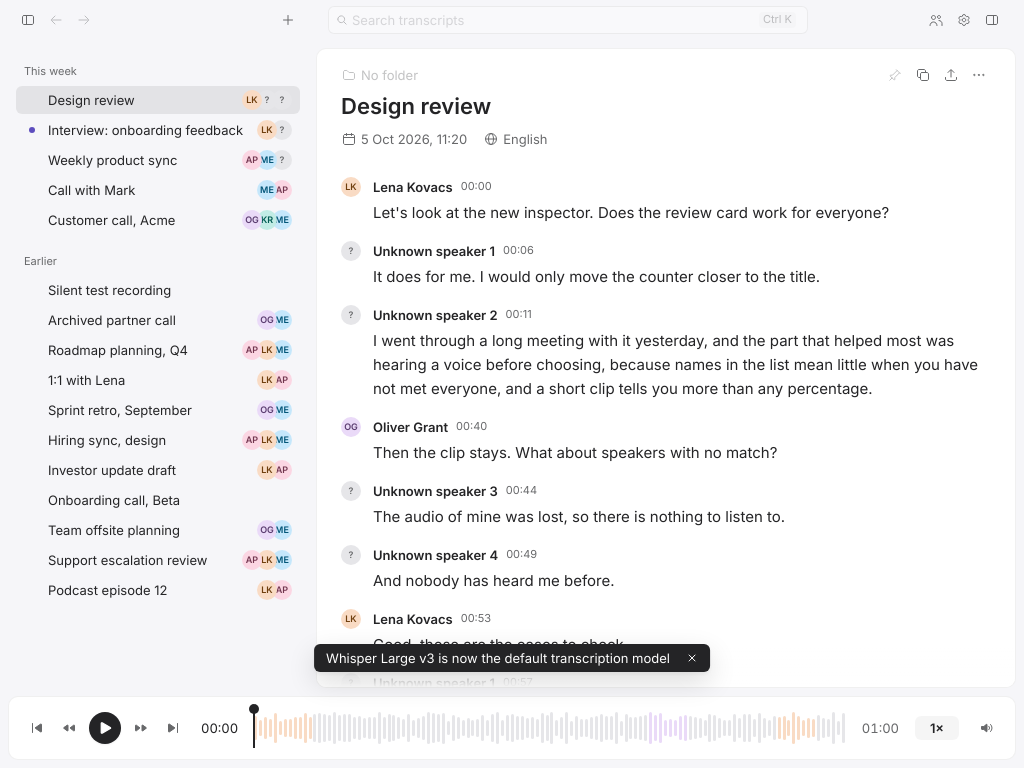
Test: a language without its alignment model says so; Download starts it, with the progress and Cancel
The width and height of the screenshot is (1024, 768).
Click the button named "Settings" at (964, 20), box [952,8,976,32]
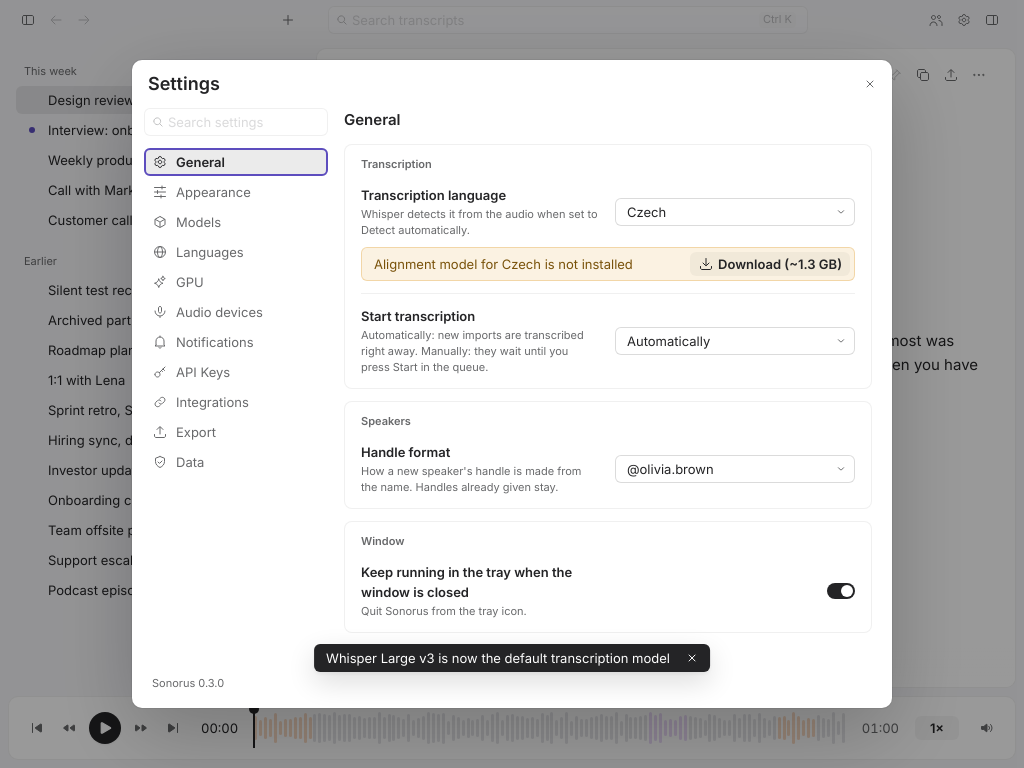
Now the message shows "Alignment model for Czech is not installed", box [361,247,855,281]
Click the button "Download (~1.3 GB)" at (770, 264), box [690,252,850,276]
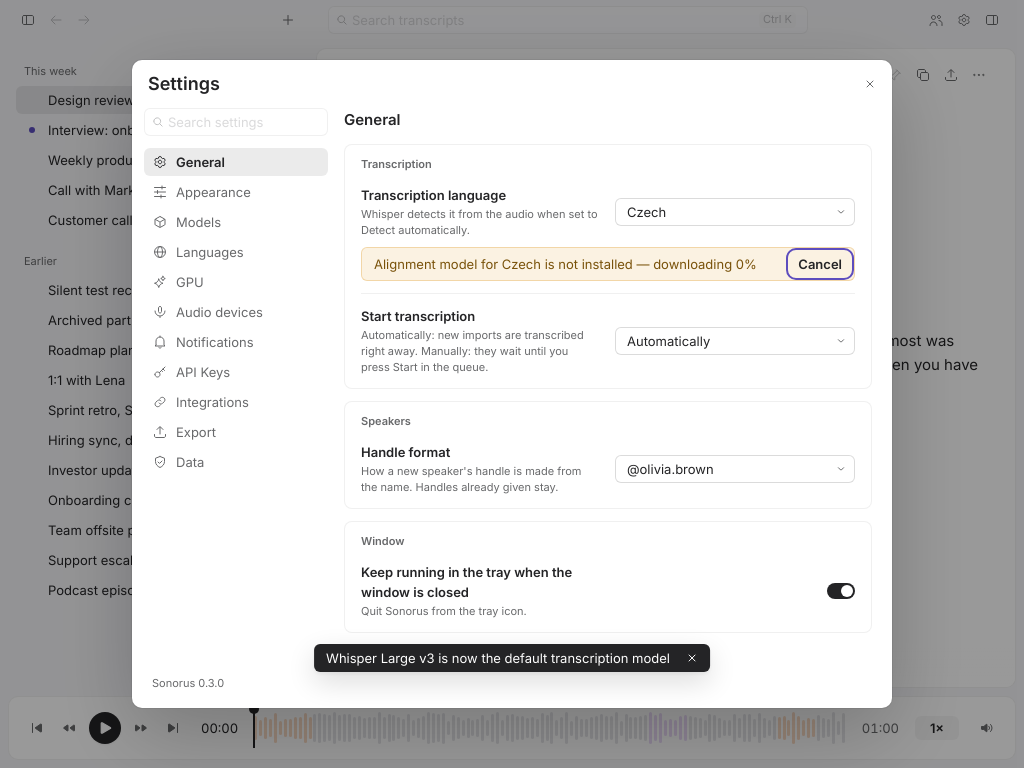
Now the message shows "downloading 0%", box [633,256,757,272]
Click the button "Cancel" at (820, 264), box [790,252,850,276]
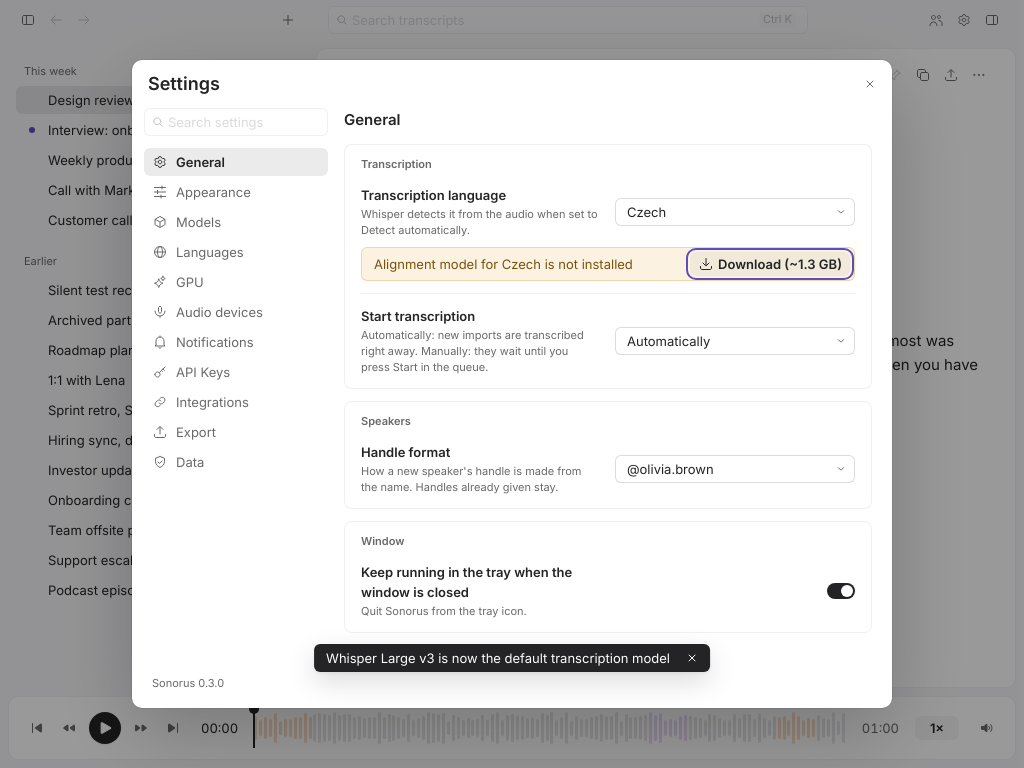
Now the button "Download (~1.3 GB)" is shown, box [690,252,850,276]
